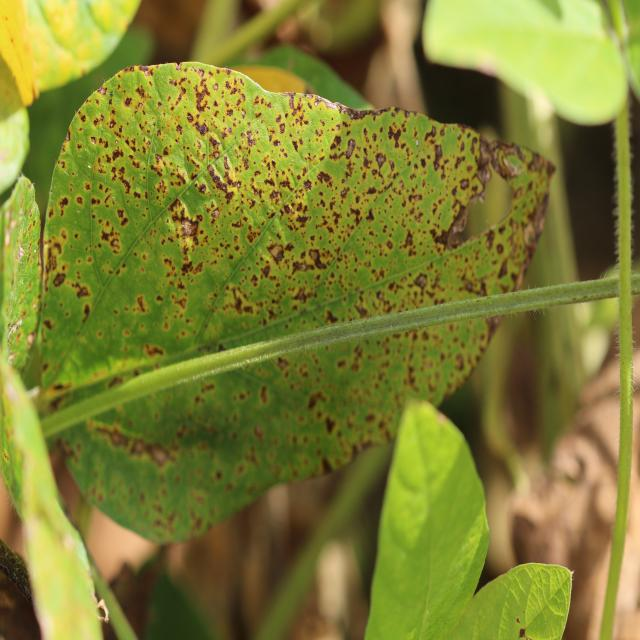Bacterial_Blight: (316, 328, 406, 436), (415, 308, 498, 409), (224, 257, 292, 326), (90, 420, 176, 461), (168, 198, 202, 247), (172, 243, 205, 289), (290, 244, 328, 279), (444, 202, 473, 245), (206, 163, 236, 201), (306, 94, 346, 114), (345, 104, 392, 121), (99, 223, 122, 253), (501, 154, 525, 178), (124, 63, 162, 78), (538, 153, 557, 179), (387, 121, 405, 148), (70, 280, 92, 302), (194, 84, 210, 113), (230, 288, 247, 315), (432, 228, 452, 249), (307, 390, 326, 411), (267, 243, 284, 263), (523, 222, 537, 246), (477, 163, 492, 185), (144, 343, 165, 358), (498, 257, 510, 280), (316, 170, 333, 186), (320, 456, 334, 474), (433, 143, 443, 168), (344, 139, 356, 159), (135, 295, 148, 313), (57, 196, 69, 215), (325, 415, 337, 434), (355, 302, 369, 318), (414, 273, 428, 289), (117, 209, 129, 227), (194, 121, 208, 136), (52, 272, 66, 287), (375, 152, 387, 169), (245, 130, 256, 148), (426, 124, 437, 142), (253, 424, 265, 440), (81, 303, 91, 322), (259, 385, 269, 404), (112, 147, 124, 162), (122, 178, 131, 194), (459, 178, 470, 191), (365, 208, 375, 222), (210, 208, 220, 221), (97, 86, 107, 97), (340, 187, 349, 199), (303, 179, 312, 191), (198, 182, 207, 194), (26, 332, 34, 345), (124, 96, 132, 107), (186, 112, 194, 123), (3, 451, 10, 462), (516, 617, 520, 624)
Soybean: (37, 63, 554, 542)
